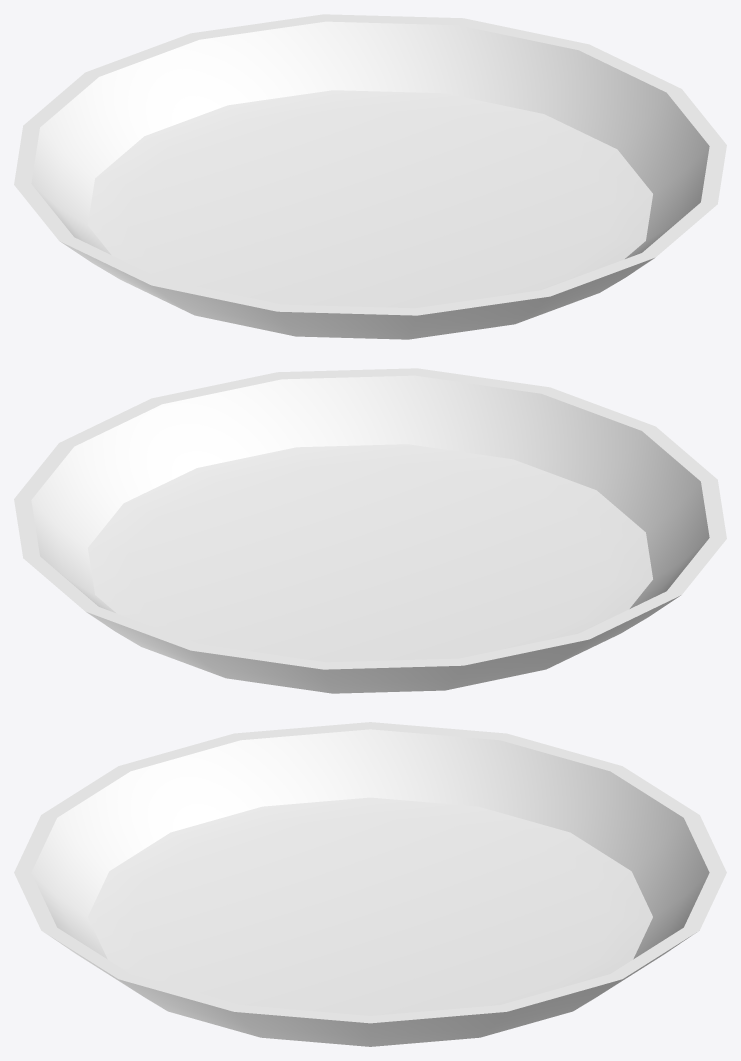
Rendered from LP_plate.obj.
3 renders of one model, top to bottom at view 1: azimuth 30°, elevation 25°; view 2: azimuth 150°, elevation 25°; view 3: azimuth 270°, elevation 25°, orthographic.
Visible parts, largest first — view 1: LP_plate.001; view 2: LP_plate.001; view 3: LP_plate.001.
Boxes of the visible parts, bbox=[...] form: LP_plate.001: bbox=[14, 14, 726, 339]; LP_plate.001: bbox=[14, 368, 726, 693]; LP_plate.001: bbox=[14, 722, 726, 1046].
Bounding box in the file's own units: 0.1737 × 0.0143 × 0.1737.
